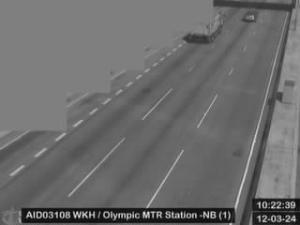truck: (188, 8, 222, 42)
vehicle: (242, 12, 258, 22)
